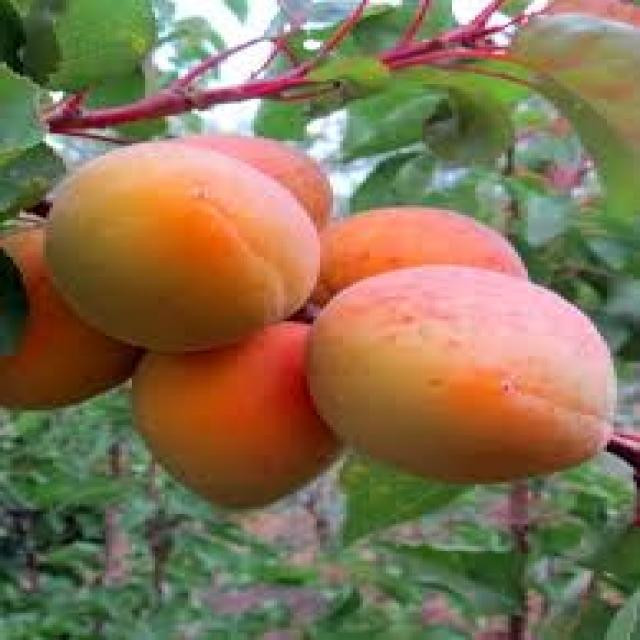kayisi: (307, 268, 630, 480)
